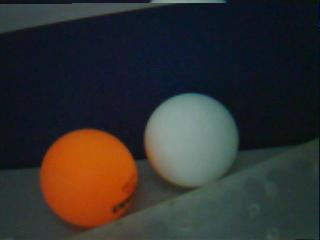oball: (40, 129, 137, 228)
